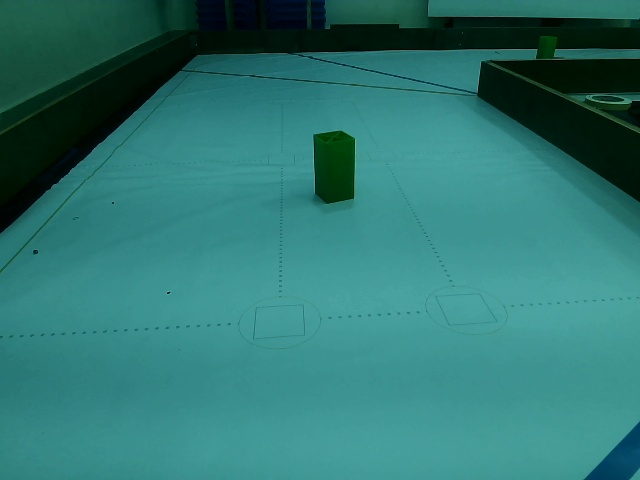green: (314, 134, 354, 203)
